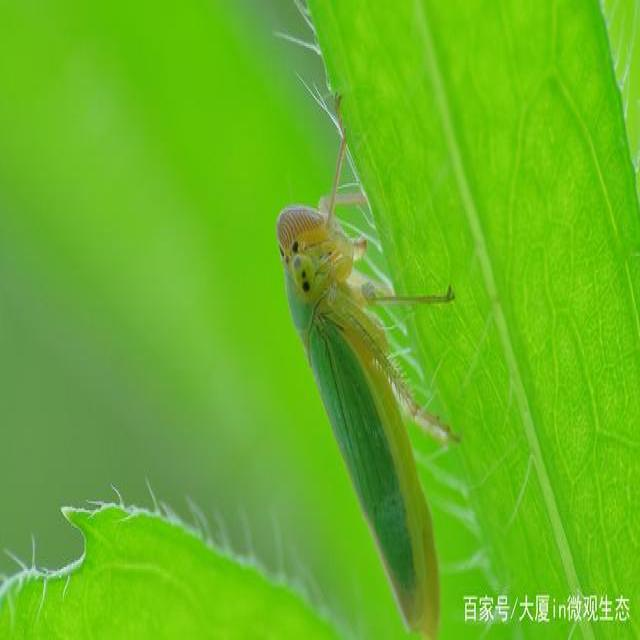Yechan: (264, 171, 447, 636)
